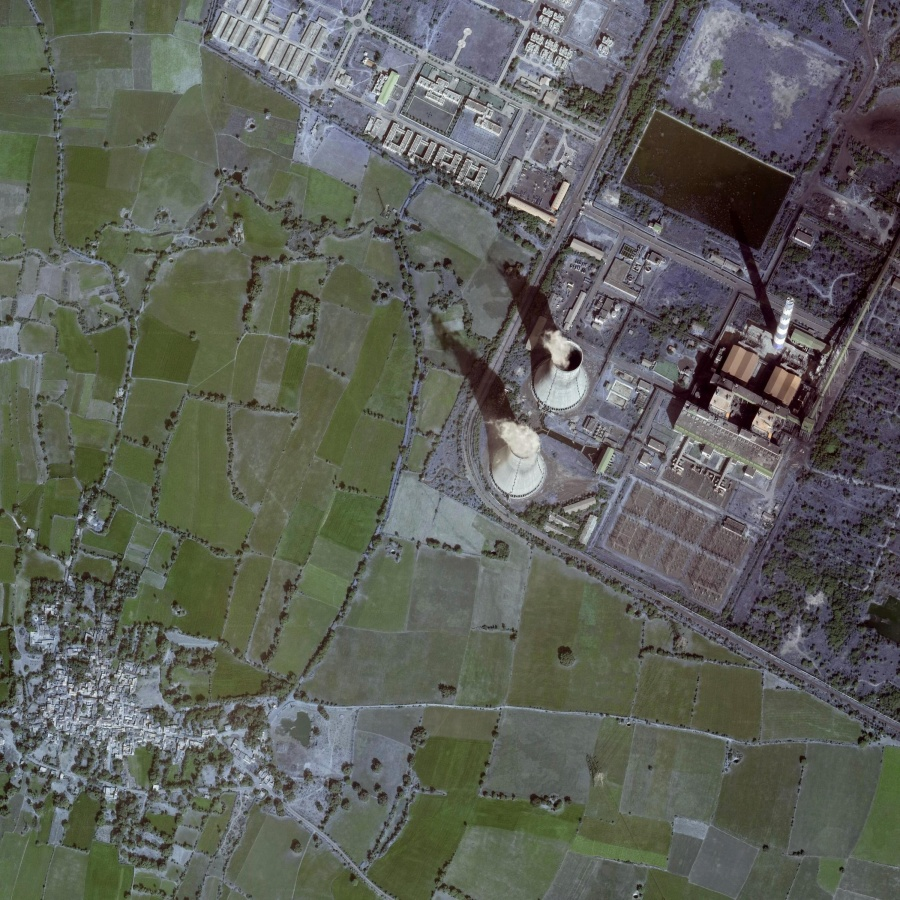PowerPlant: (457, 94, 894, 552)
